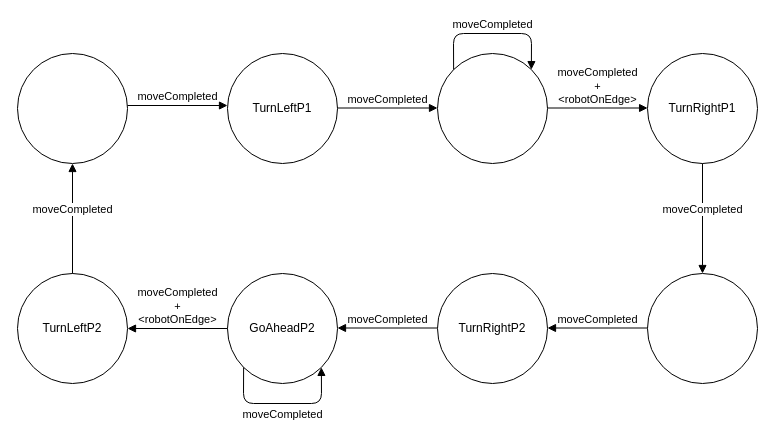
The diagram is 775 pixels wide and 437 high, and some of its shapes have lost their labels. The shapes that lost their labels are listed below. From the top down, each one's box as (x1, y1, x2, y2) in pixels, then its label:
(16, 52, 128, 164): ForwardP1
(436, 52, 548, 164): GoAheadP1
(646, 272, 758, 384): ForwardP2
